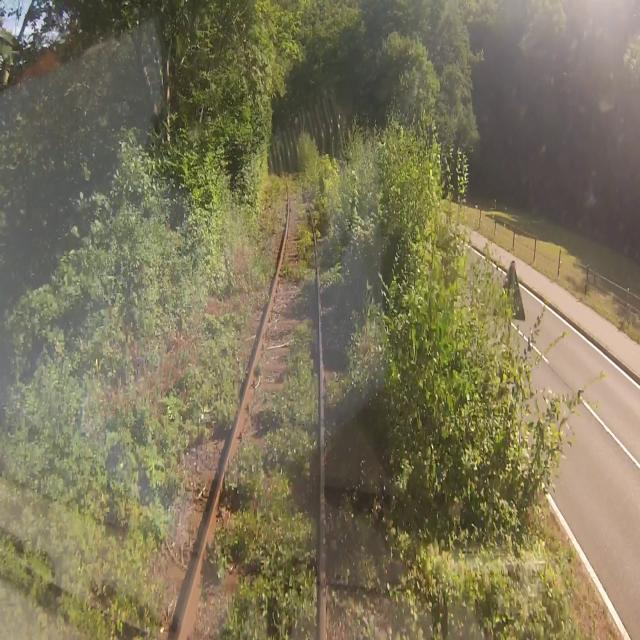Plant: (108, 311, 245, 639), (293, 162, 382, 638), (203, 319, 320, 639), (243, 172, 292, 311), (283, 217, 318, 314)
